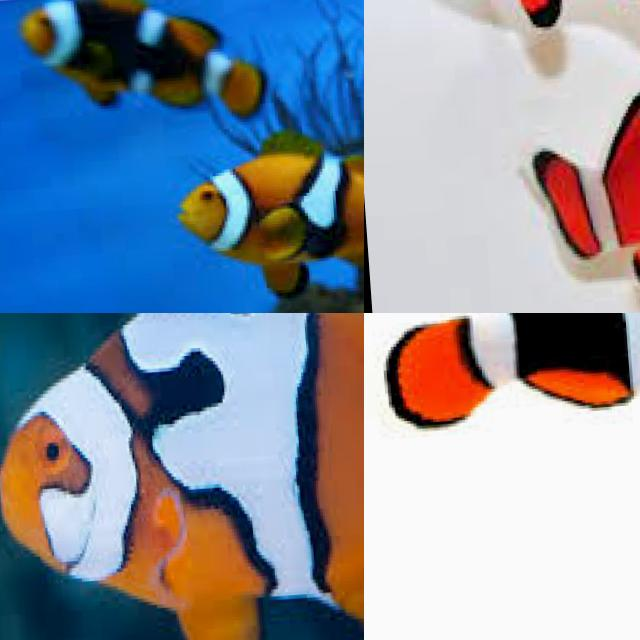Amphiprion-percula: (0, 313, 364, 640), (364, 313, 640, 604), (0, 0, 336, 154), (497, 0, 640, 313), (157, 128, 364, 313), (385, 0, 640, 137)
